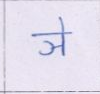o_matra: (58, 17, 69, 56)
